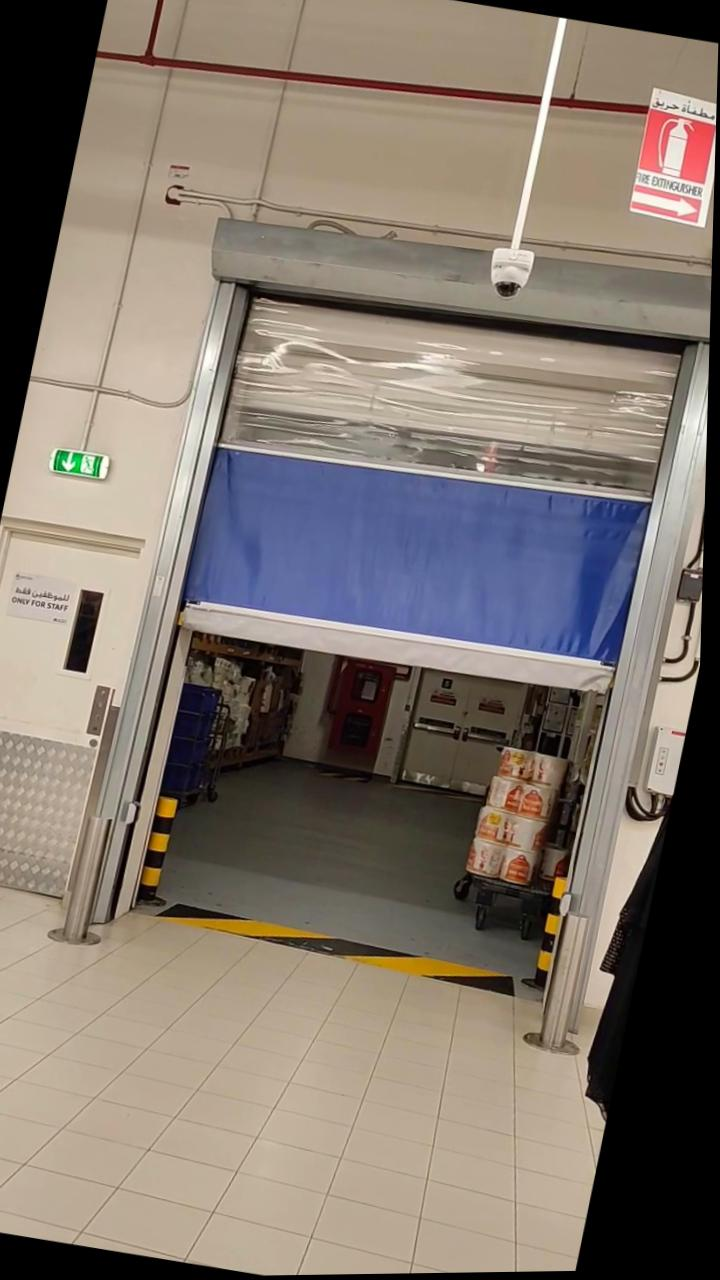Strip: (167, 888, 532, 1007)
